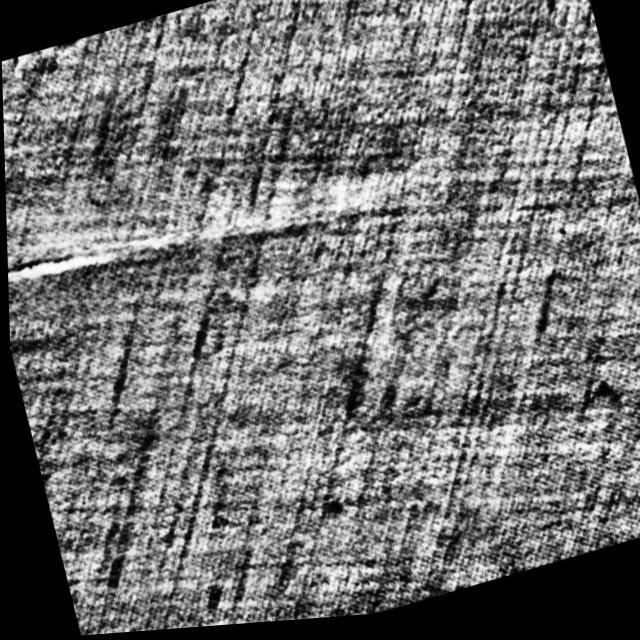Stitch: (4, 156, 414, 334)
